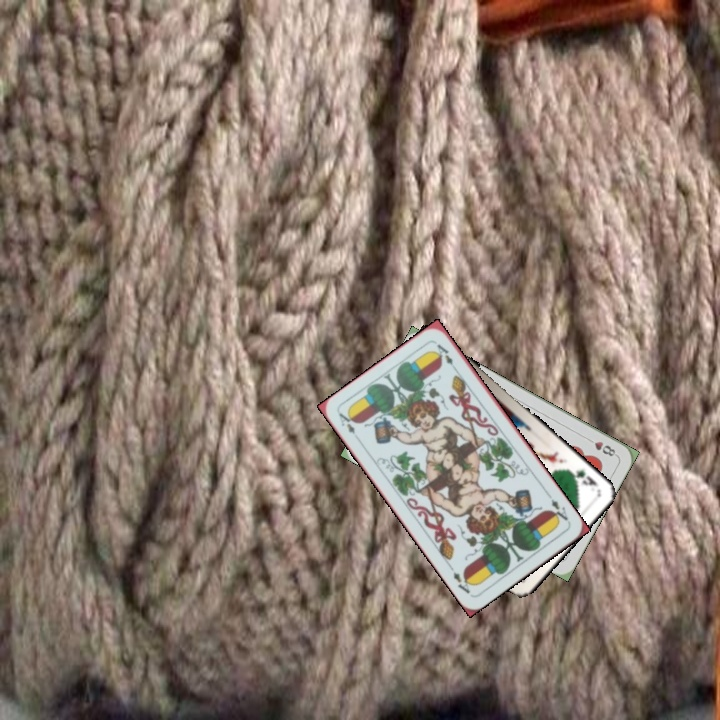EA: (546, 495, 572, 525), (334, 408, 358, 437)
GK: (565, 465, 600, 489)
H8: (582, 434, 619, 459)
